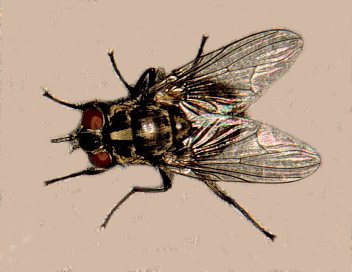fly: (36, 27, 324, 244)
